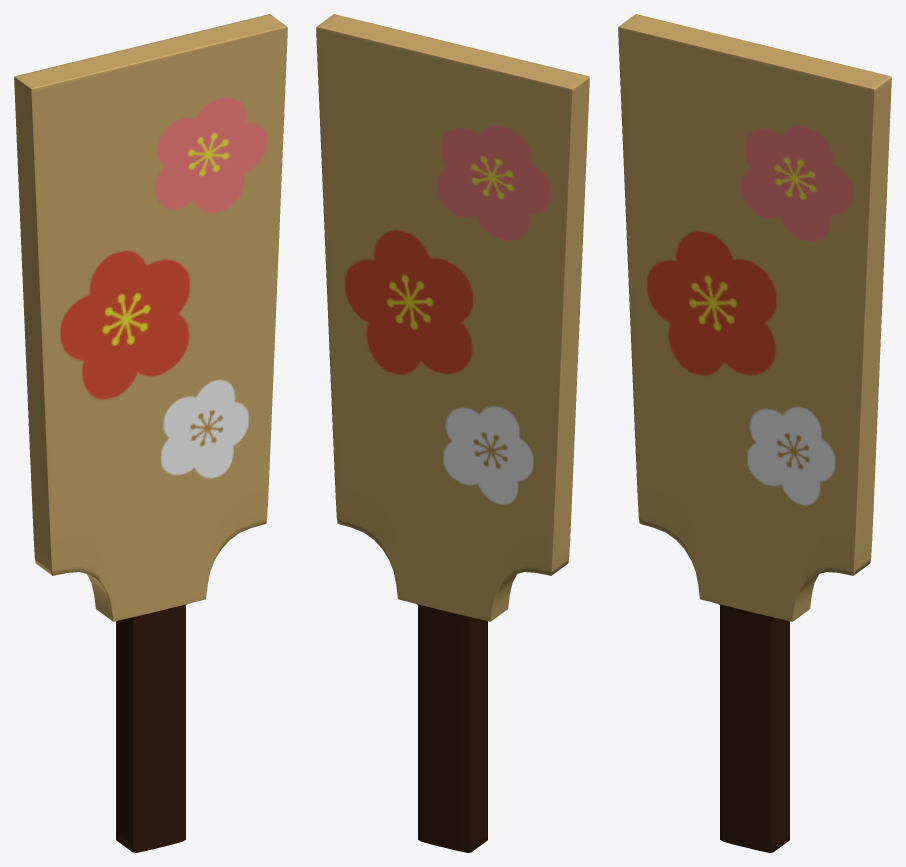
Rendered from battledore.fbx.
3 renders of one model, left to right at view 1: azimuth 30°, elevation 25°; view 2: azimuth 150°, elevation 25°; view 3: azimuth 330°, elevation 25°, orthographic.
Visible parts, largest first — view 1: battledoreFix; view 2: battledoreFix; view 3: battledoreFix.
Part boxes in pixels (bbox=[...]): battledoreFix: bbox=[14, 14, 287, 852]; battledoreFix: bbox=[316, 14, 589, 852]; battledoreFix: bbox=[618, 14, 891, 852].
Size of the model in its own units: 3.4 by 10 by 0.4.
